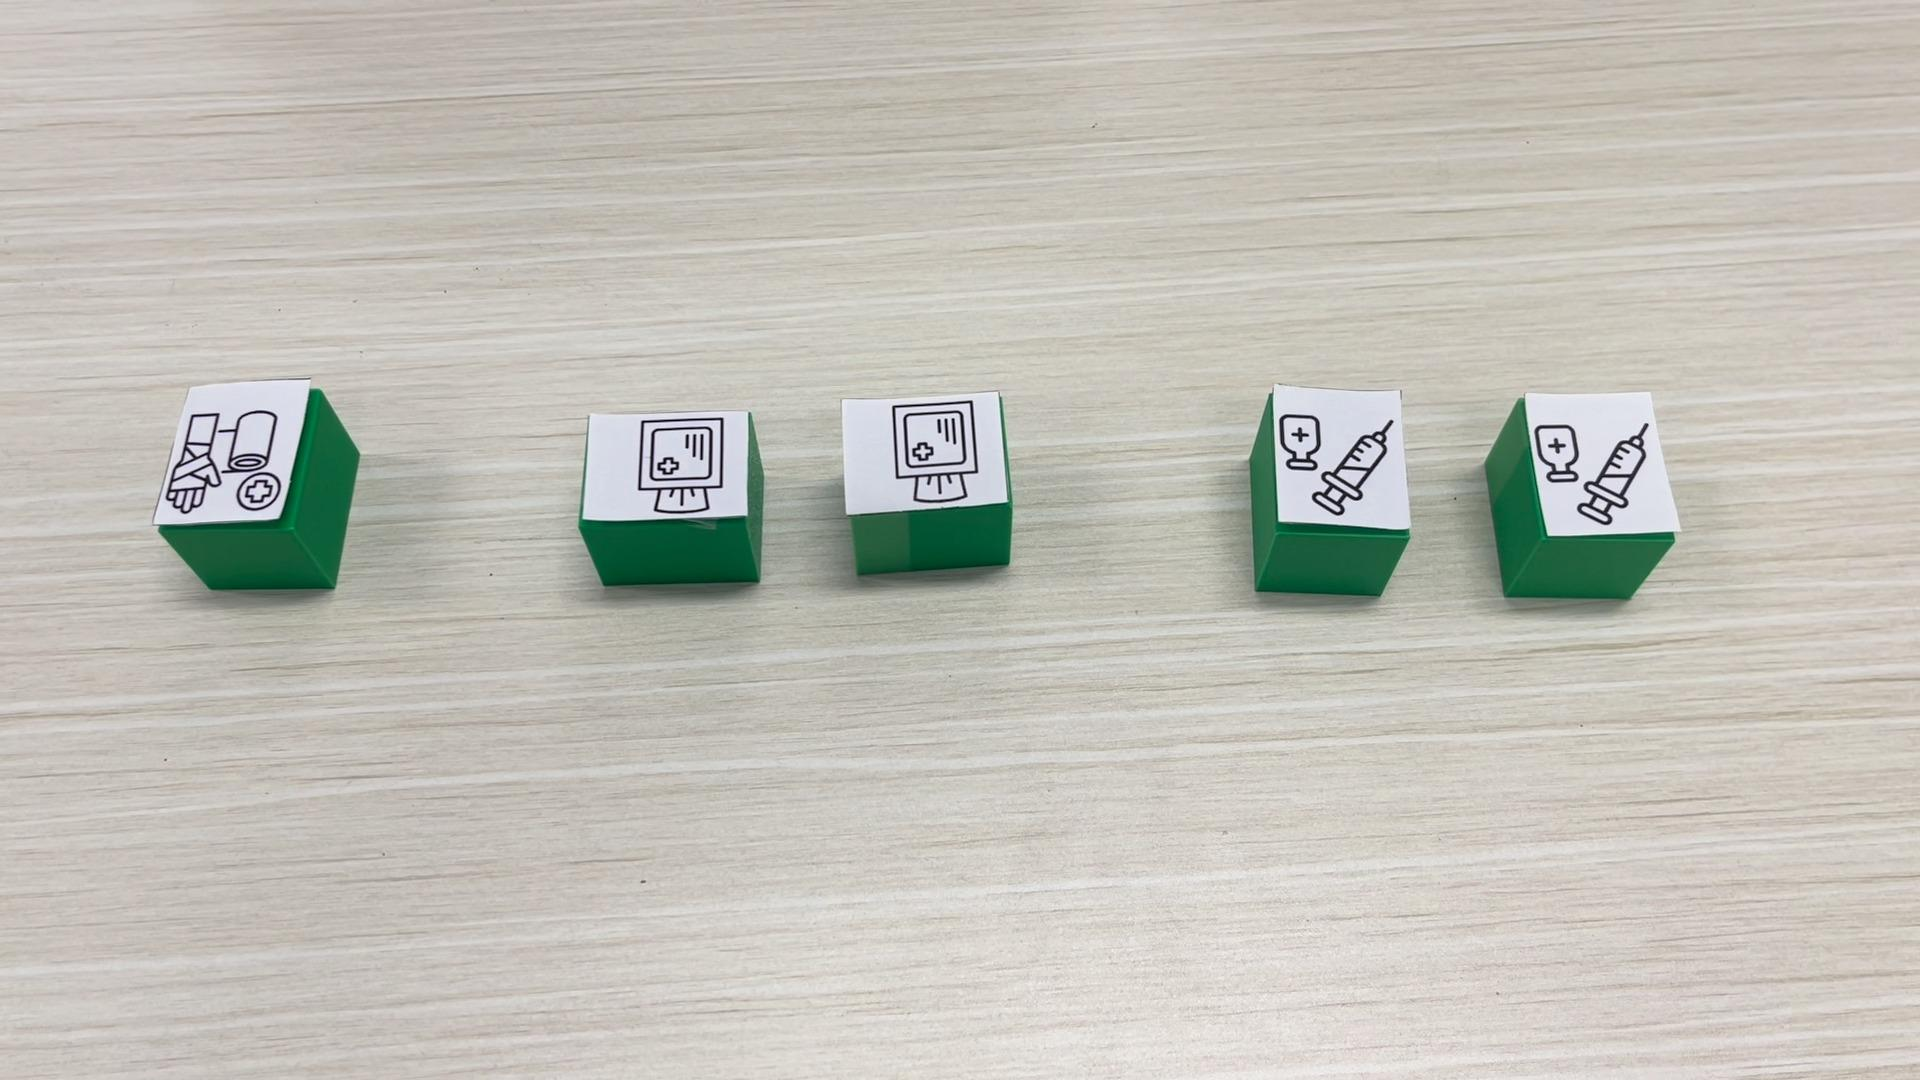Bandages: (153, 377, 357, 589)
Gauze: (578, 406, 765, 585), (837, 389, 1013, 575)
antiseptic cream: (1485, 388, 1681, 599), (1247, 382, 1411, 596)
